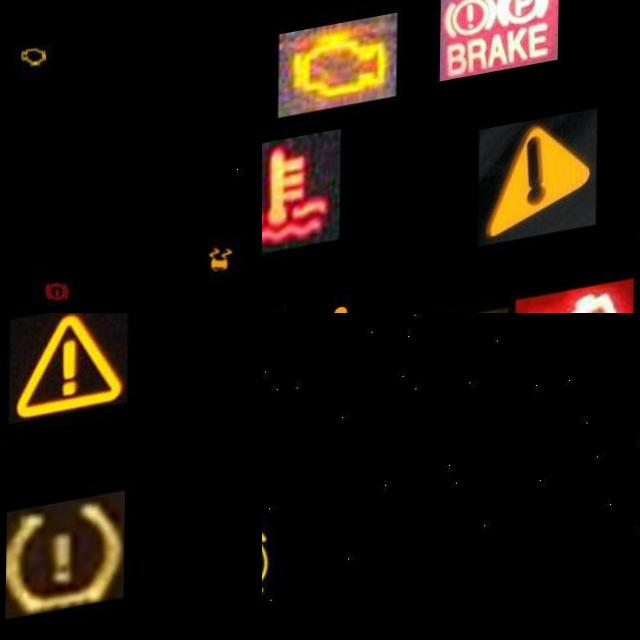Central Warning lamp: (479, 123, 598, 257), (10, 315, 129, 437)
Engine cooling system: (262, 133, 341, 261)
